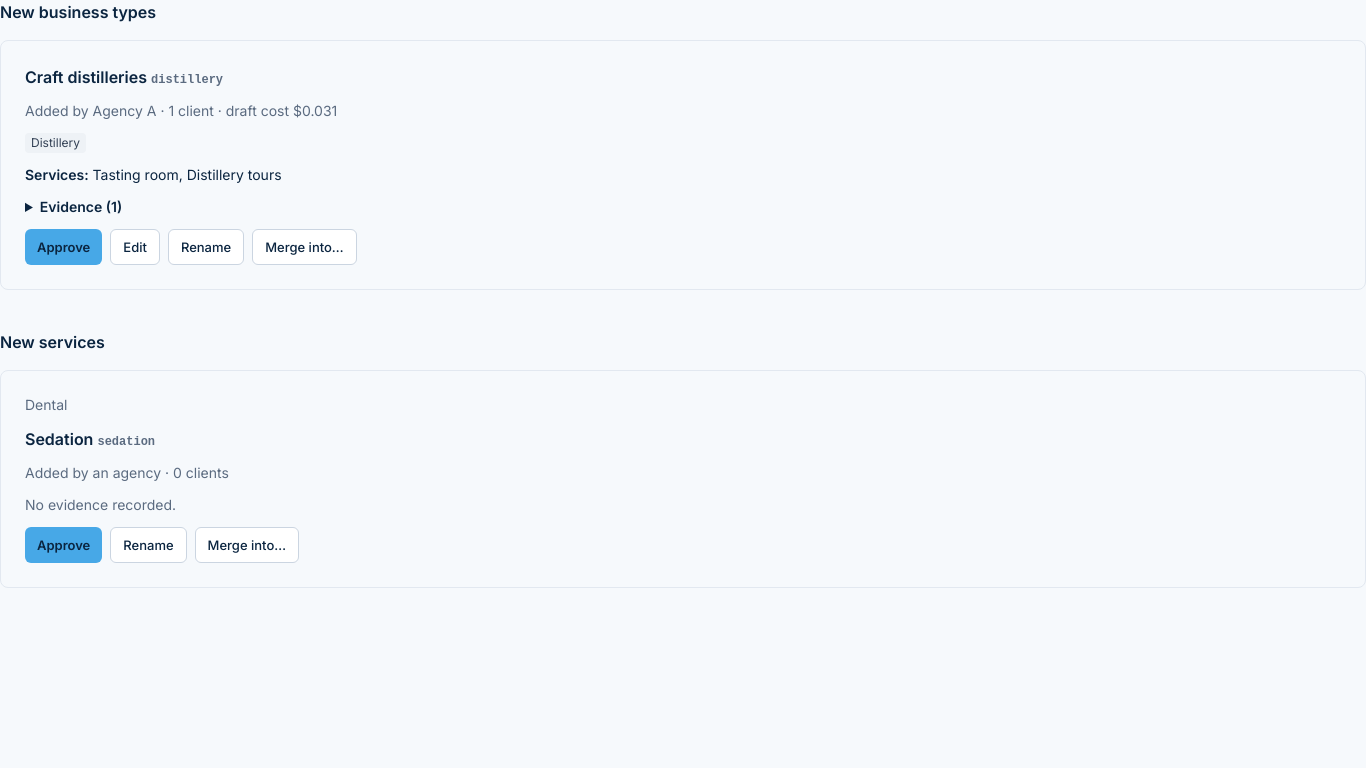
Test: CatalogQueue › approves a business type and keeps the message
This screenshot has width=1366, height=768.
Expected: the text "Added by Agency A · 1 client · draft cost $0.031" is shown, [25,102,337,119]
Click the button with aria-label "Approve Craft distilleries" at (64, 247), box [25,229,102,265]
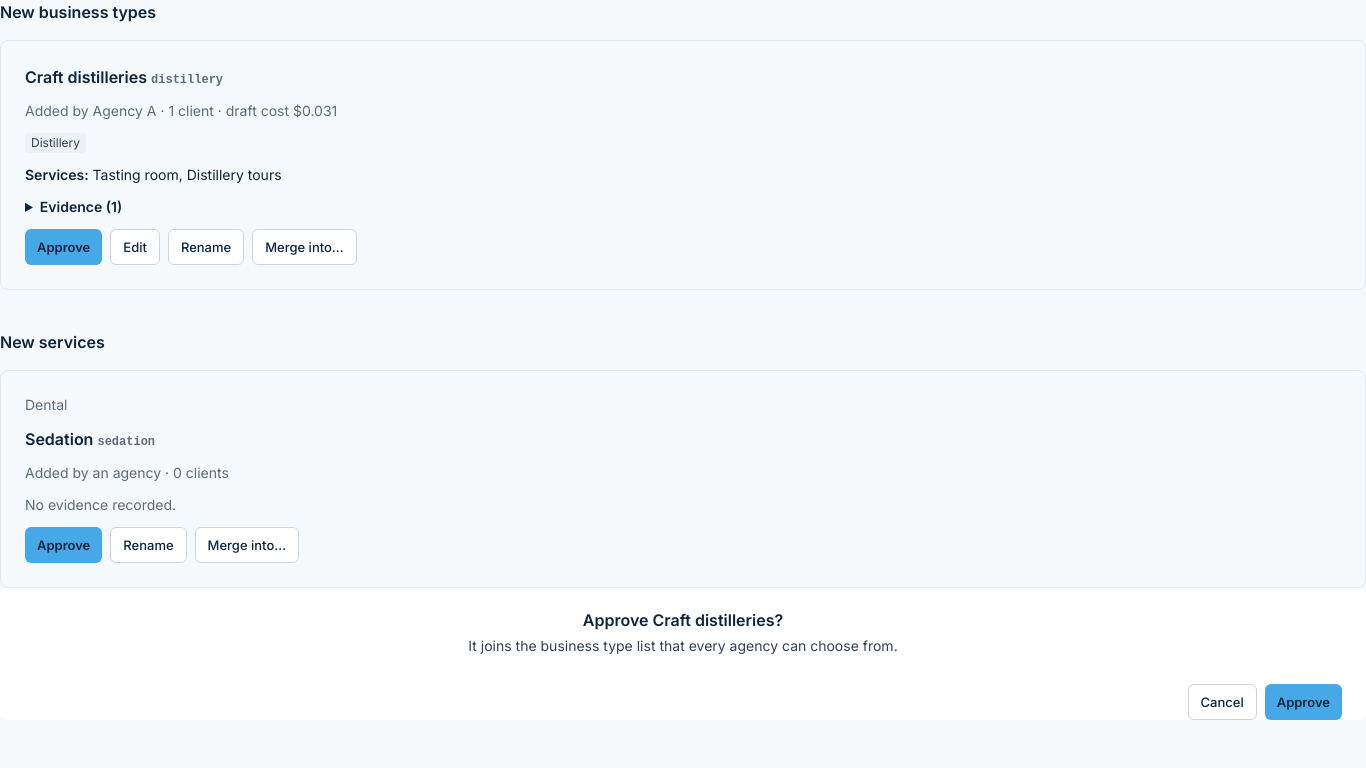
Click the button "Approve" at (1303, 702), box [1265,684,1342,720]
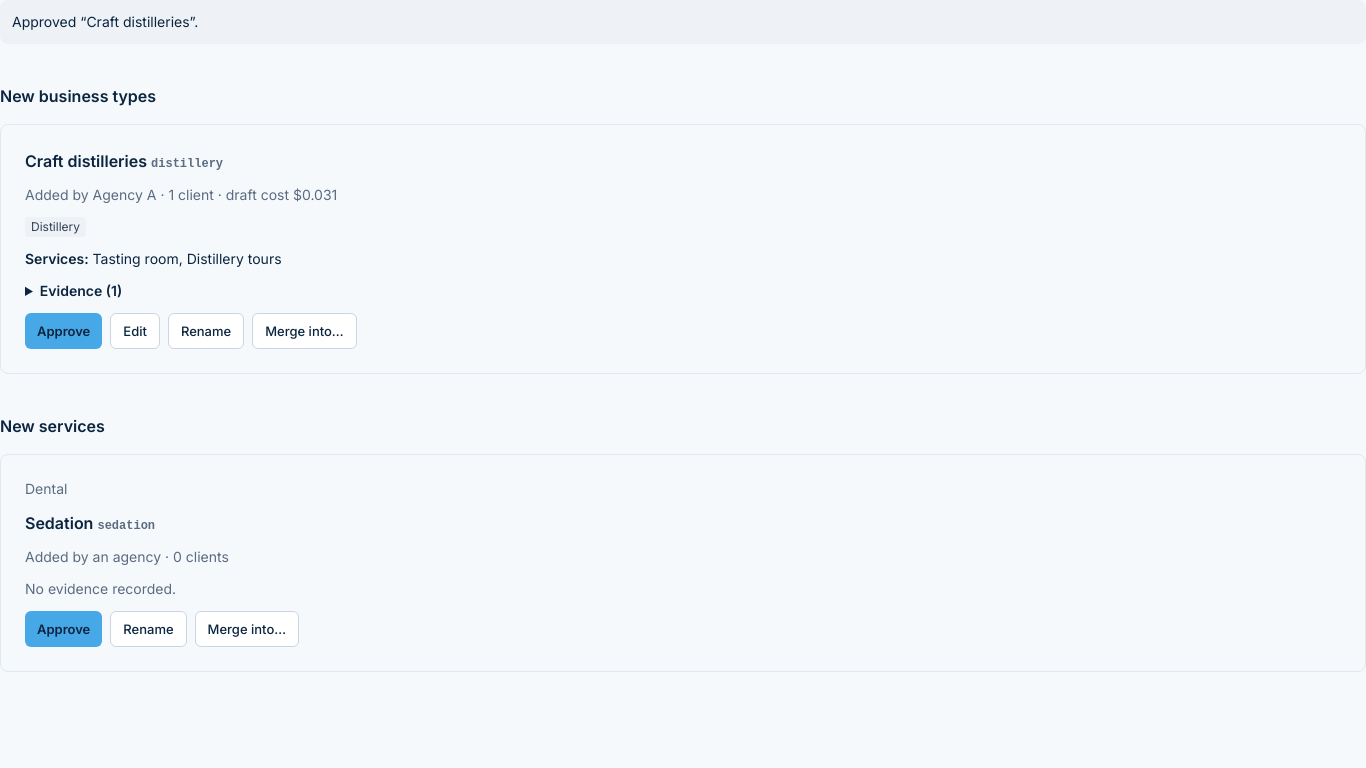
Now the text "Approved “Craft distilleries”." is shown, box [0,0,1365,44]
